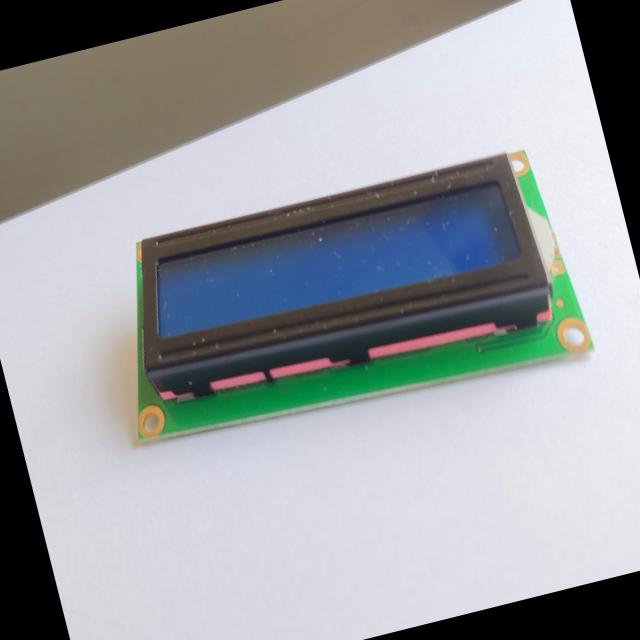lcd: (89, 136, 595, 463)
